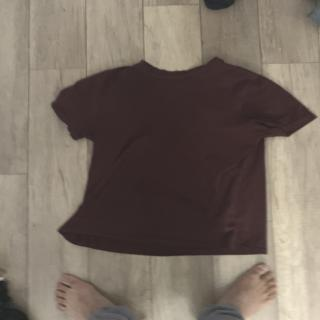Maroon T-Shirt: (50, 60, 320, 257)
